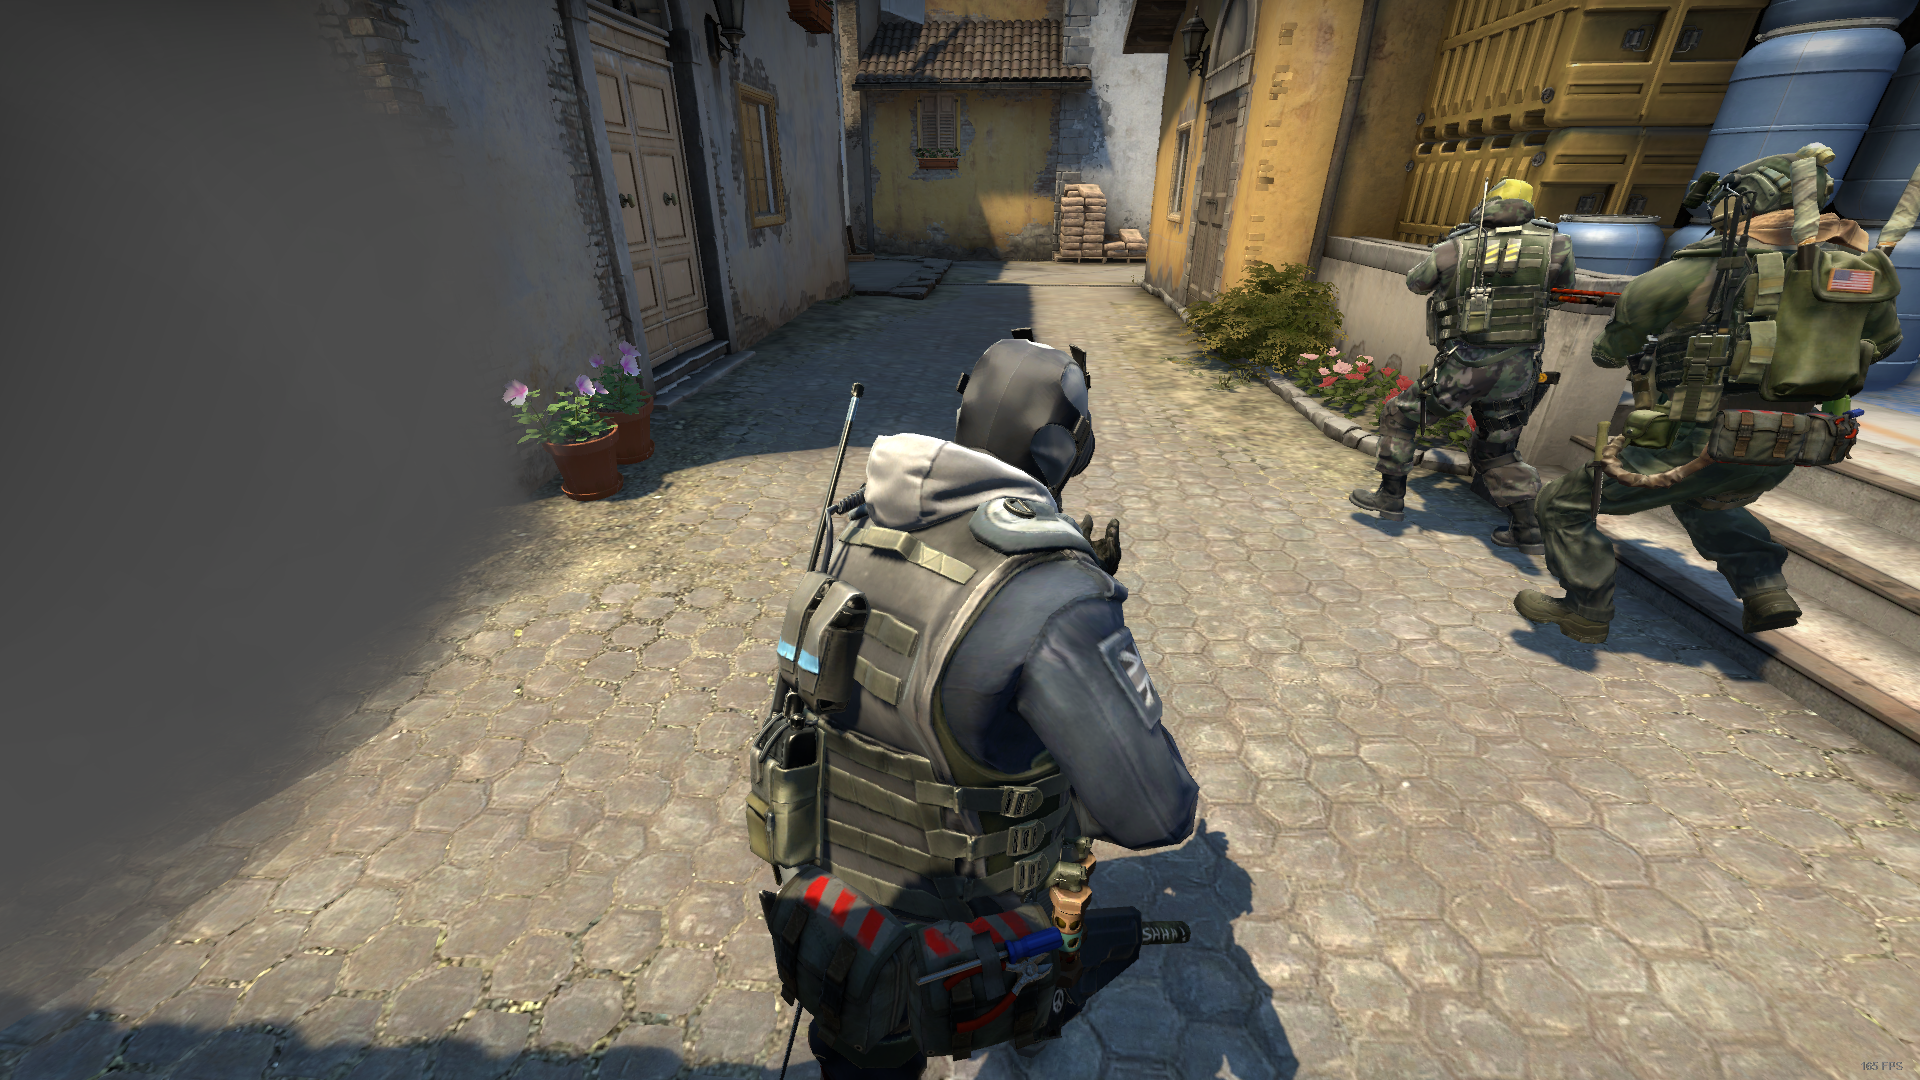ct: (752, 332, 1200, 1080), (1346, 177, 1568, 559)
